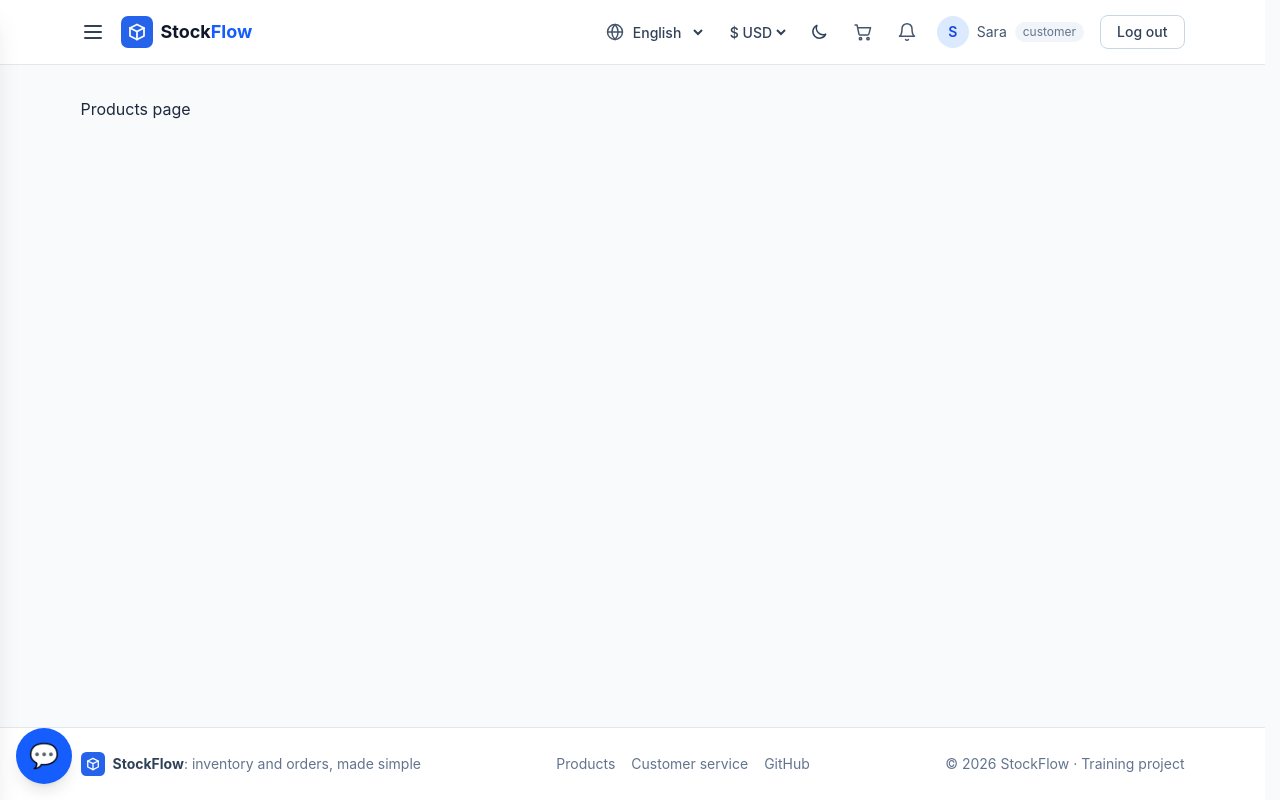
it: Escape and ✕ close the menu, and the focus goes back to ☰
Click the button named "Menu". click: (92, 32)
box: left=72, top=12, right=112, bottom=52
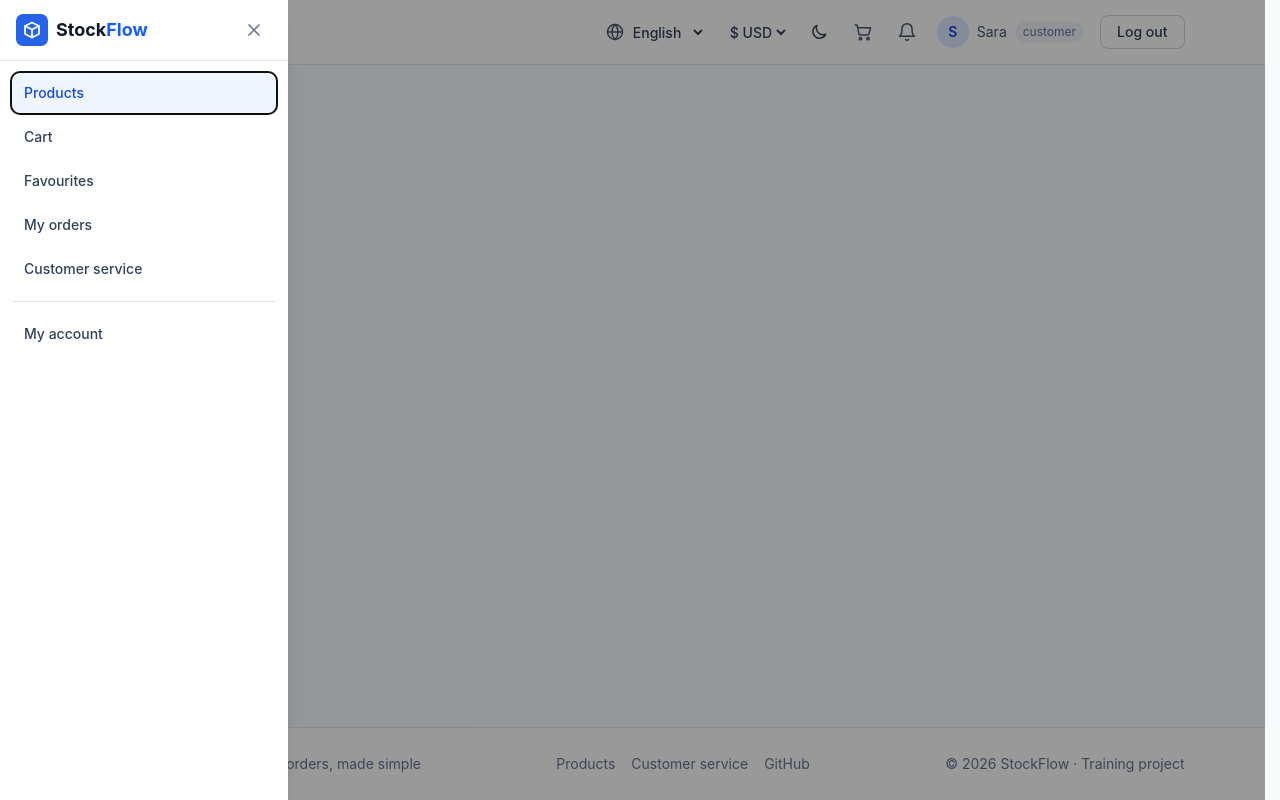
Press Escape
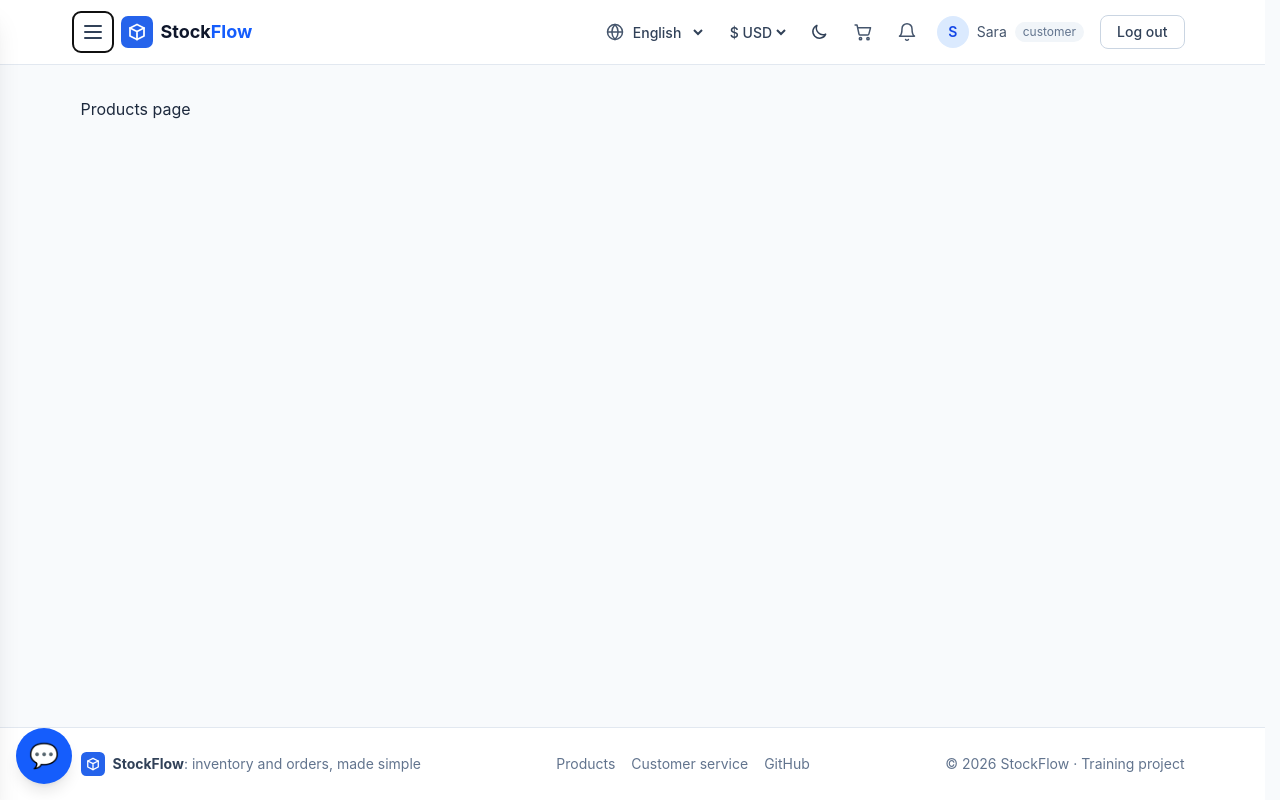
Check: the button named "Menu" is collapsed
Click the button named "Menu". click: (92, 32)
box: left=72, top=12, right=112, bottom=52
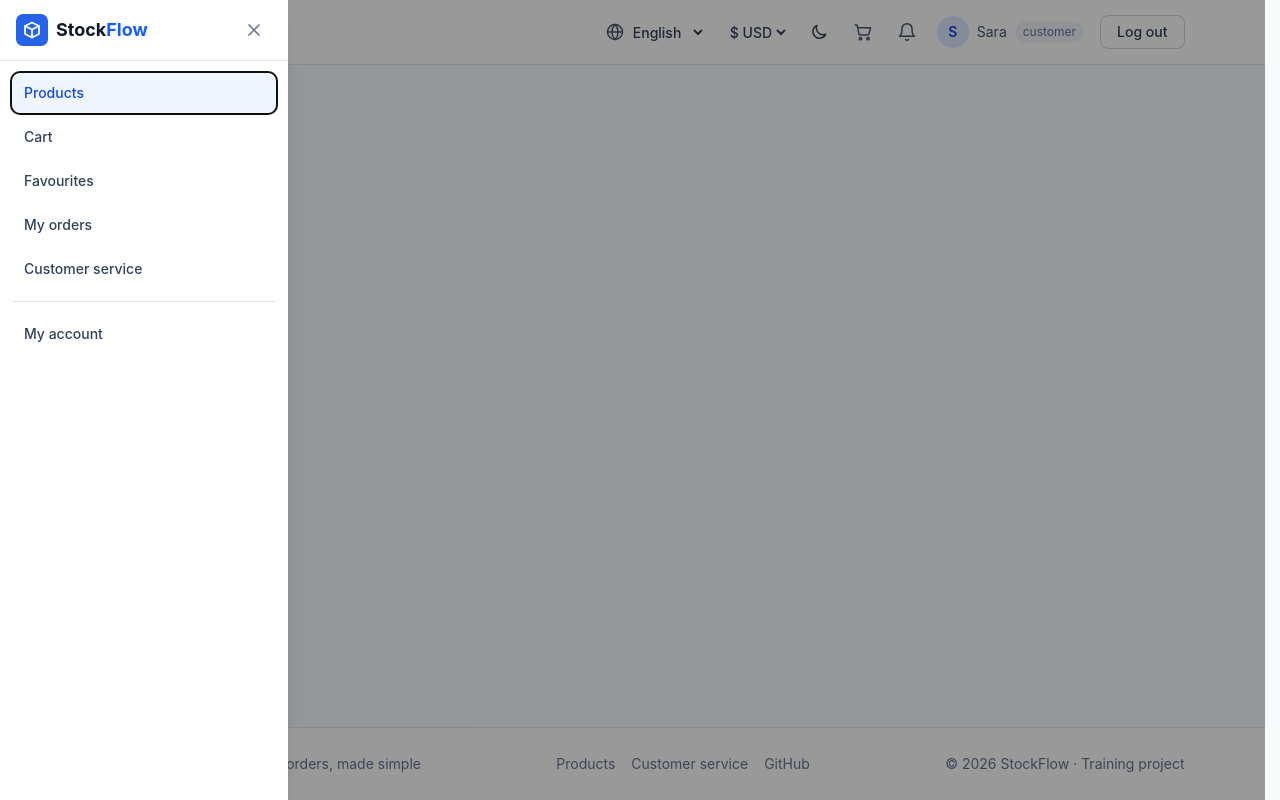
Click the button named "Close menu". click: (254, 30)
box: left=236, top=12, right=272, bottom=48
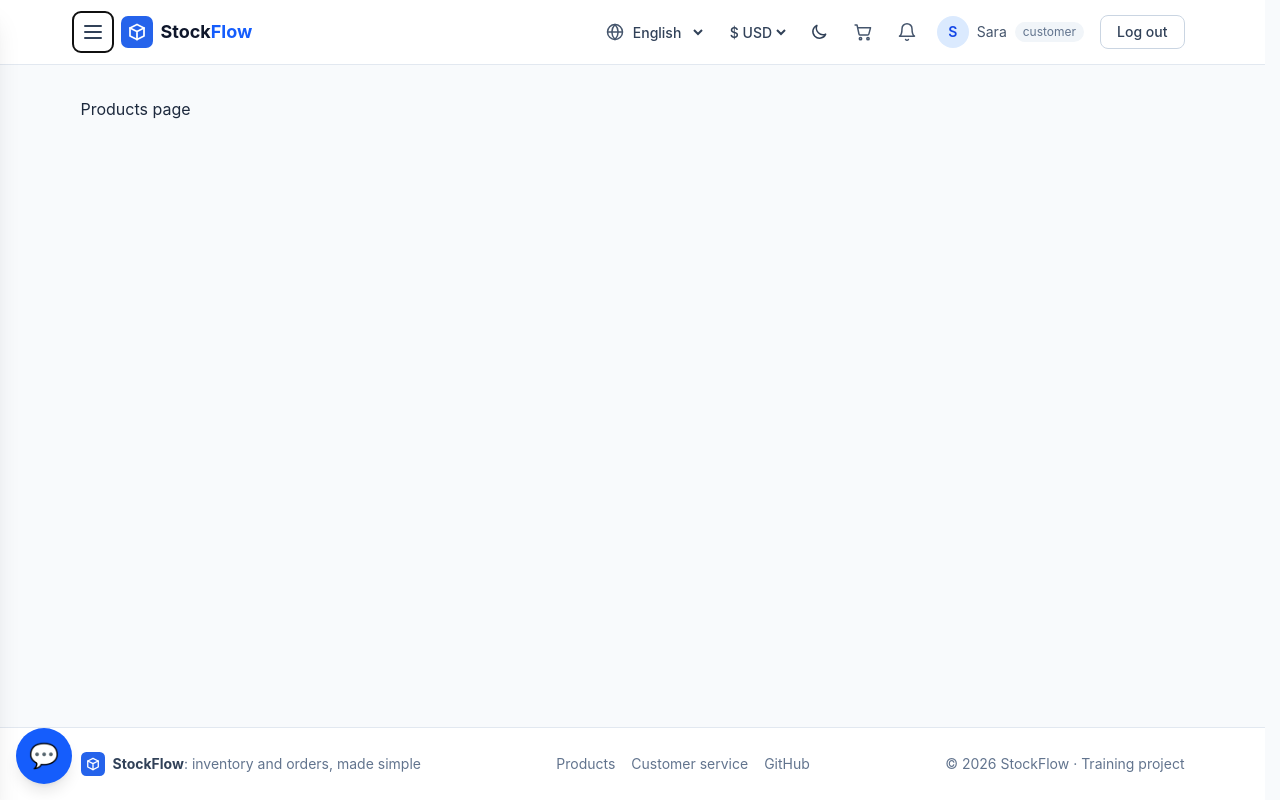
Check: the button named "Menu" is collapsed, box left=72, top=12, right=112, bottom=52
